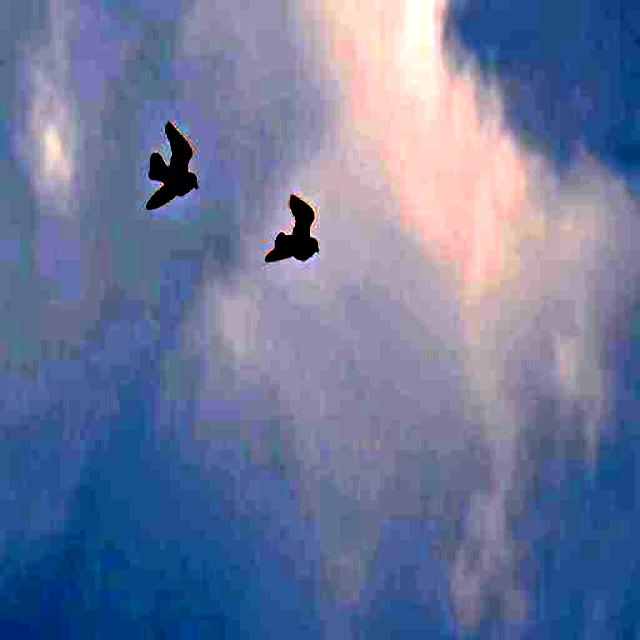airplane: (260, 165, 331, 288), (138, 108, 196, 219)
